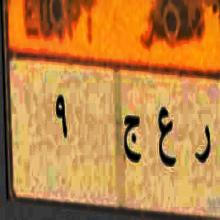9: (55, 91, 69, 145)
ain: (157, 106, 176, 178)
jeem: (122, 108, 142, 172)
raa: (194, 120, 213, 168)
